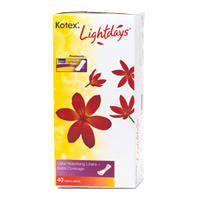grozi_81: (51, 10, 144, 188)
